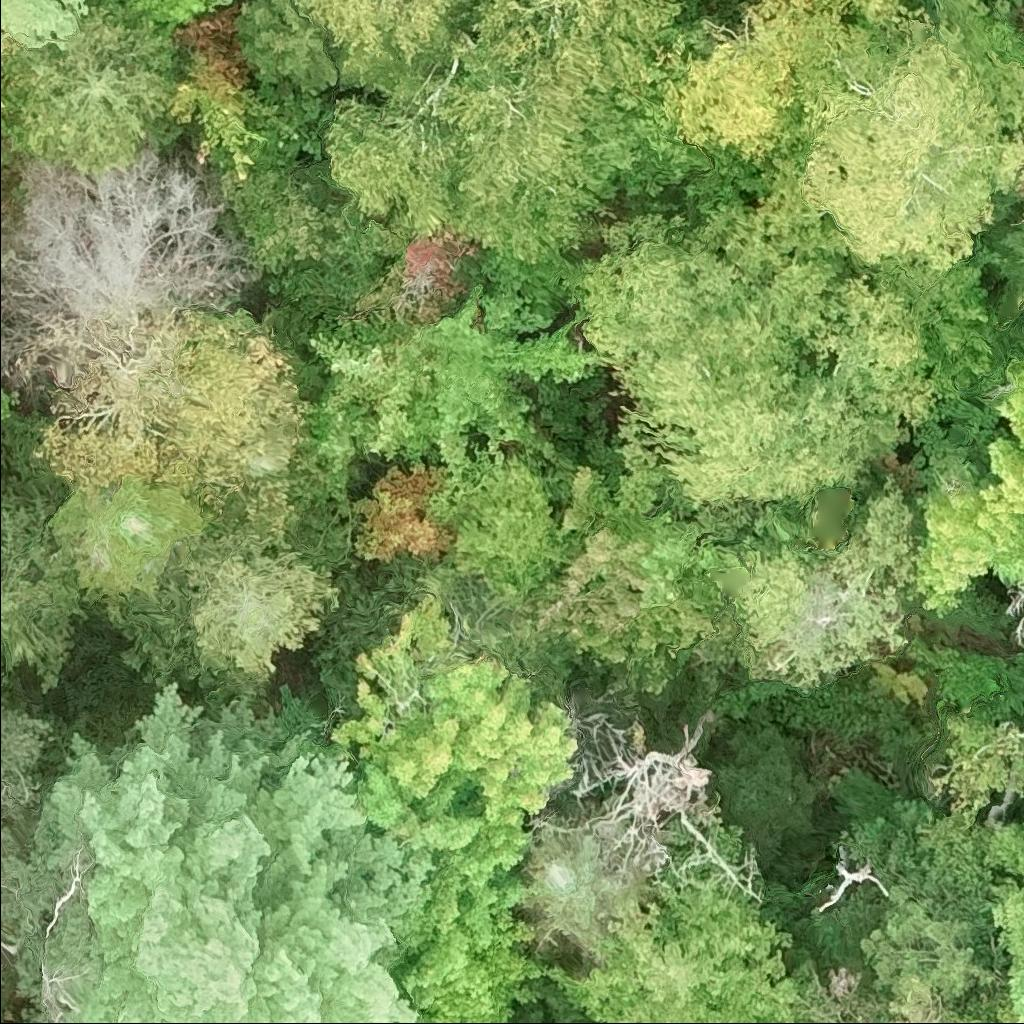crown: (37, 686, 434, 1023), (663, 0, 1023, 275), (327, 597, 576, 885), (618, 282, 932, 506), (326, 34, 634, 255), (572, 207, 833, 400), (51, 315, 301, 509), (8, 146, 254, 332), (532, 450, 729, 665), (543, 867, 804, 1023), (722, 483, 914, 685), (404, 286, 598, 455), (911, 345, 1023, 614), (20, 3, 173, 179), (167, 0, 307, 179), (180, 535, 341, 681), (391, 872, 546, 1023), (574, 721, 710, 886), (475, 0, 687, 105), (434, 465, 582, 613), (307, 0, 485, 106), (53, 484, 207, 598), (308, 324, 427, 460), (527, 830, 649, 953), (352, 465, 455, 563), (235, 0, 346, 88), (932, 717, 1023, 820), (89, 0, 225, 38), (0, 0, 92, 54), (781, 0, 928, 33), (993, 883, 1023, 1023), (997, 221, 1023, 286), (995, 818, 1023, 876), (0, 392, 13, 423), (1016, 168, 1023, 199), (949, 1015, 973, 1023), (0, 459, 2, 474)
